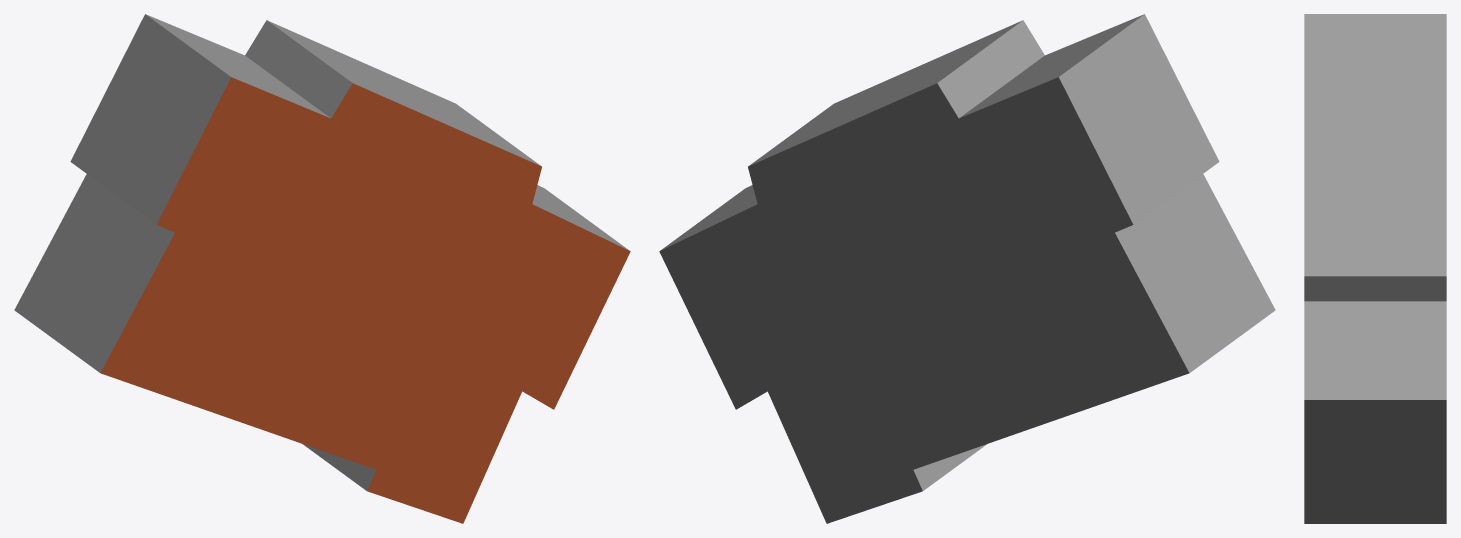
Rendered from construction_1782_assumed_A_Casa_h6m.obj.
3 renders of one model, left to right at view 1: azimuth 30°, elevation 25°; view 2: azimuth 150°, elevation 25°; view 3: azimuth 270°, elevation 25°, orthographic. The views are drawn at different scales.
Visible parts, largest first — view 1: construction_1782_assumed_A_Casa; view 2: construction_1782_assumed_A_Casa; view 3: construction_1782_assumed_A_Casa.
Part boxes in pixels (<box>): construction_1782_assumed_A_Casa: <box>14,14,630,523</box>; construction_1782_assumed_A_Casa: <box>659,14,1275,523</box>; construction_1782_assumed_A_Casa: <box>1304,14,1446,523</box>.
Size of the model in its own units: 21.32 by 19.35 by 6.
